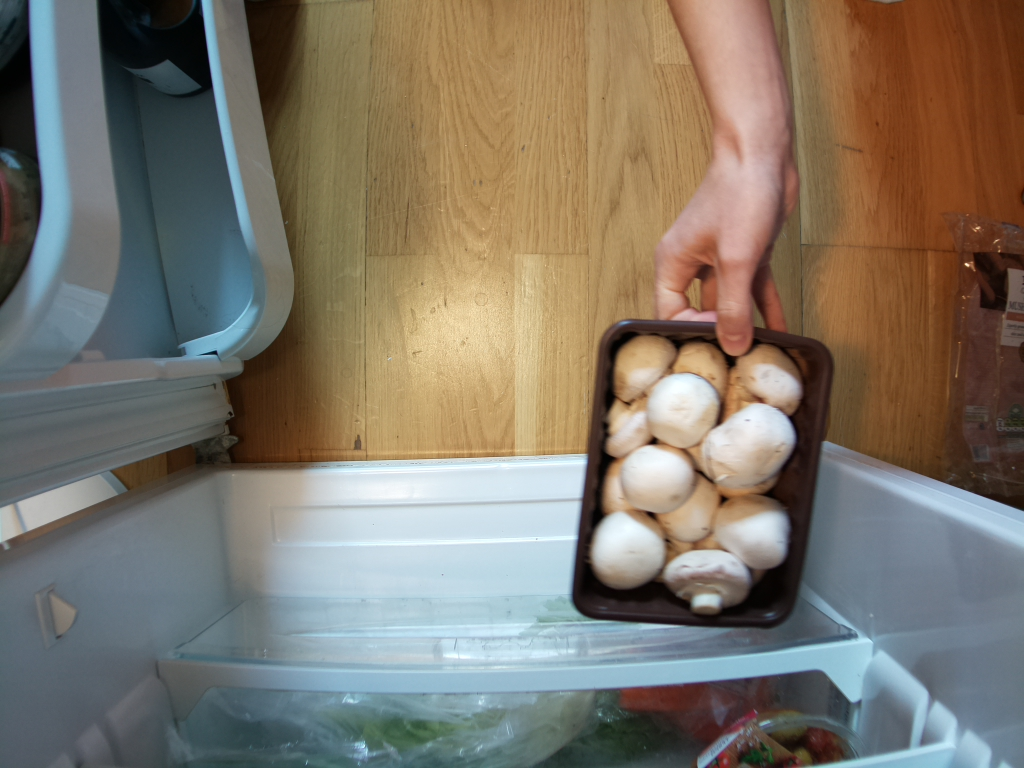mushrooms: (578, 309, 843, 628)
